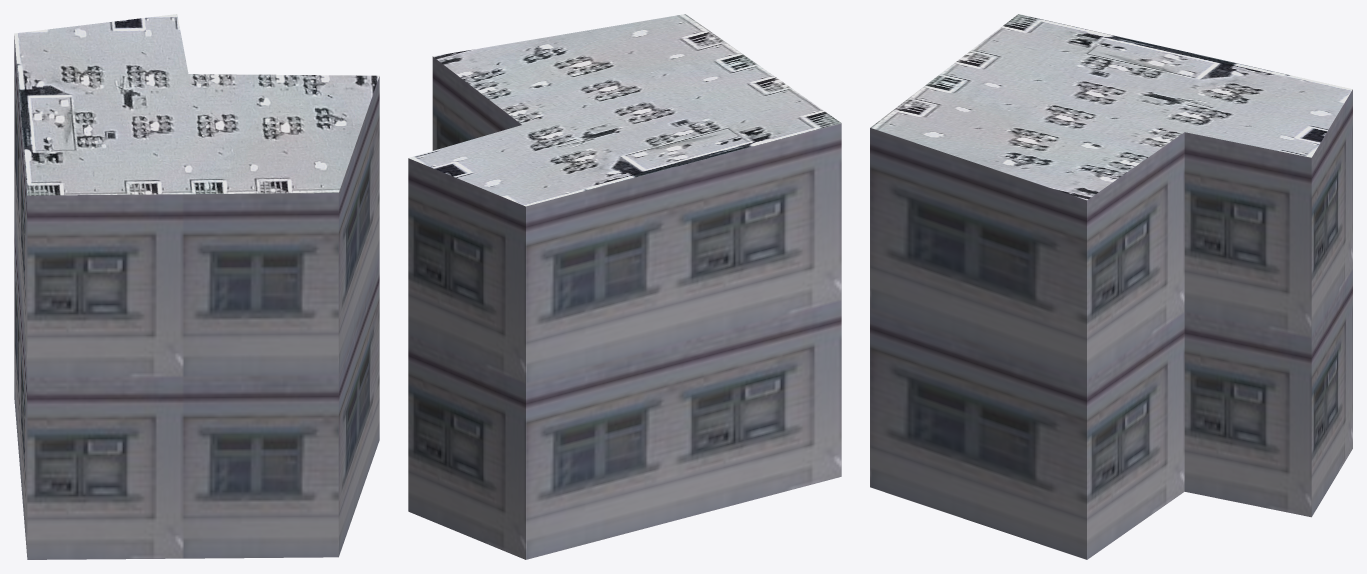
The model's file is ResTex__3386.fbx.
3 renders of one model, left to right at view 1: azimuth 30°, elevation 25°; view 2: azimuth 150°, elevation 25°; view 3: azimuth 270°, elevation 25°, orthographic. The views are drawn at different scales.
Visible parts, largest first — view 1: CityEngineMaterial_1_m, CityEngineMaterial_m; view 2: CityEngineMaterial_1_m, CityEngineMaterial_m; view 3: CityEngineMaterial_1_m, CityEngineMaterial_m.
Part boxes in pixels (bbox=[...]): CityEngineMaterial_1_m: bbox=[14, 36, 379, 559]; CityEngineMaterial_m: bbox=[14, 14, 379, 195]; CityEngineMaterial_1_m: bbox=[408, 56, 841, 559]; CityEngineMaterial_m: bbox=[408, 14, 841, 206]; CityEngineMaterial_1_m: bbox=[870, 89, 1352, 559]; CityEngineMaterial_m: bbox=[870, 14, 1352, 200].
Size of the model in its own units: 6.67 by 6 by 7.3.
Materials: 2 (2 with a texture image).
